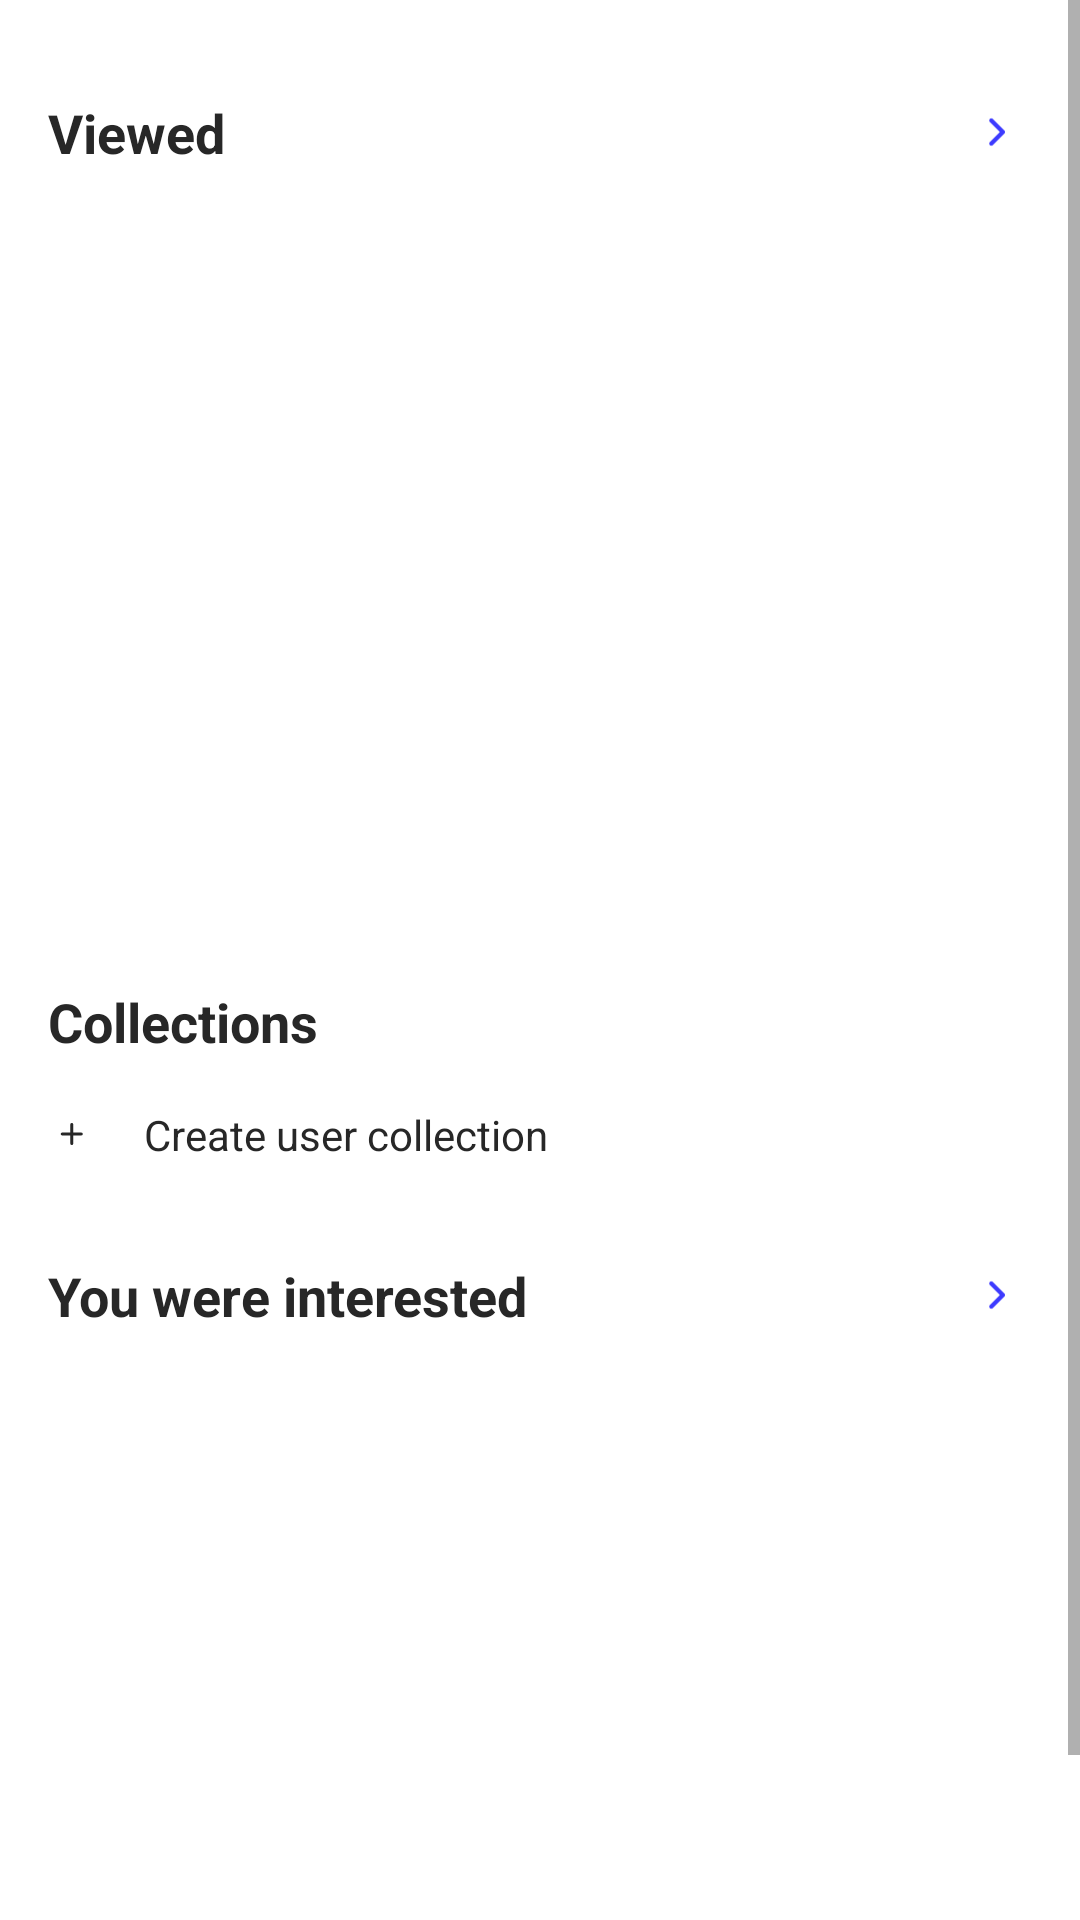

Screen size 1080px×1920px. Icon name, then its box in pixels as region(x1, y1, x2, y2):
strelka: region(989, 118, 1005, 146), region(989, 1281, 1005, 1309)
